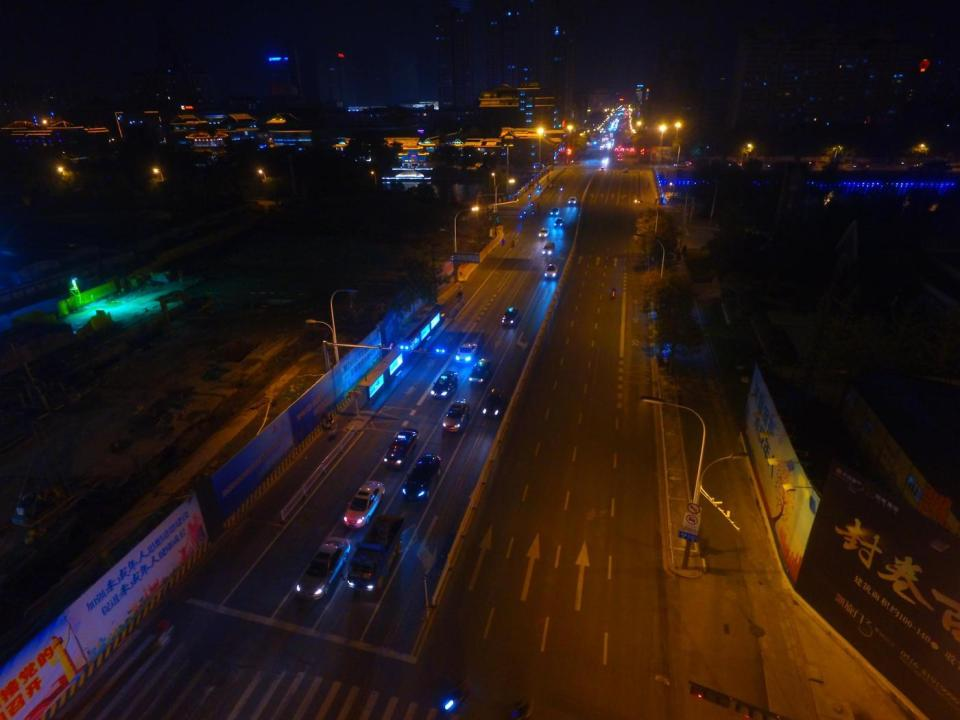car: (294, 535, 350, 601), (343, 480, 386, 527), (401, 452, 441, 500), (382, 426, 420, 465), (442, 398, 471, 432), (430, 370, 459, 399), (481, 388, 504, 416), (468, 357, 490, 384), (453, 342, 479, 364), (500, 306, 520, 324), (434, 336, 450, 356), (543, 263, 560, 279), (541, 241, 555, 258), (538, 226, 550, 238), (553, 217, 564, 228), (549, 207, 560, 216), (673, 162, 687, 168), (568, 196, 576, 204), (531, 162, 541, 168), (598, 166, 605, 173), (623, 167, 629, 174), (617, 152, 623, 158), (616, 157, 622, 162)
truck: (346, 514, 406, 594)
